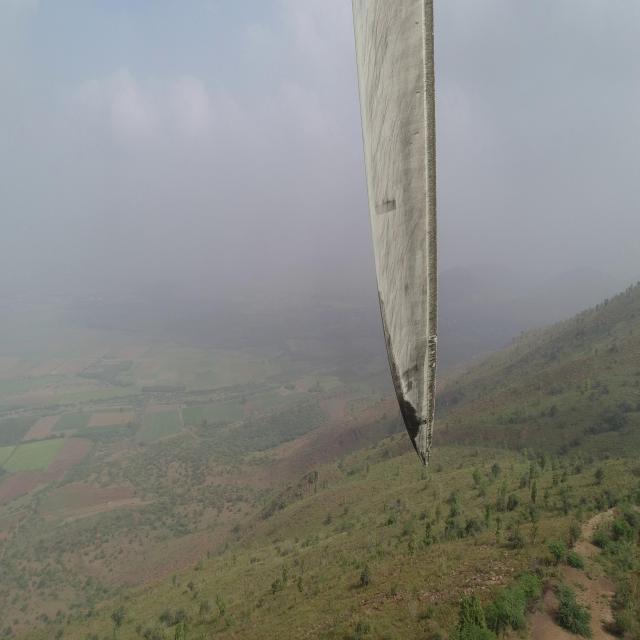Dirt: (356, 0, 430, 459)
Oil LEAKAGE: (396, 396, 432, 456)
